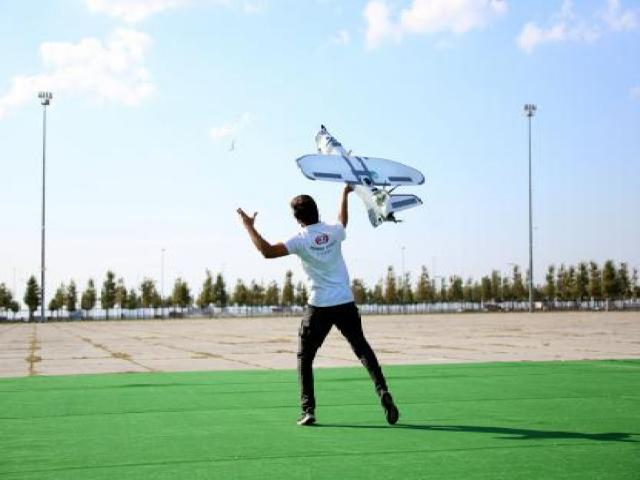uav: (296, 126, 426, 228)
